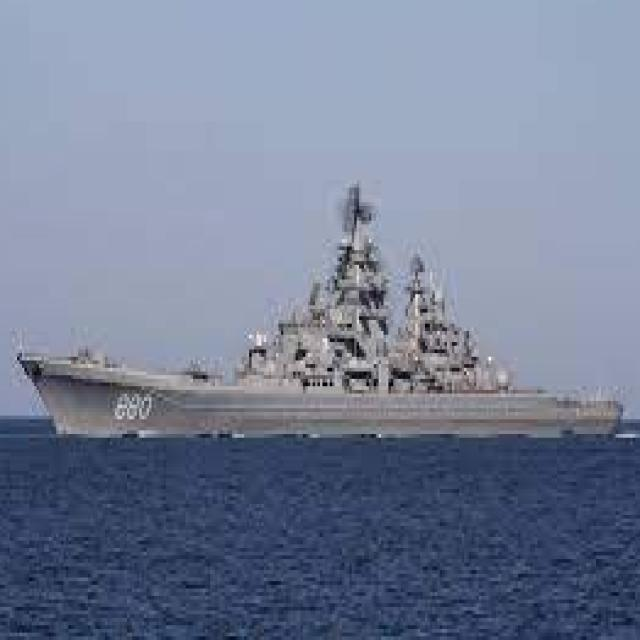navalvessels: (21, 182, 621, 451)
